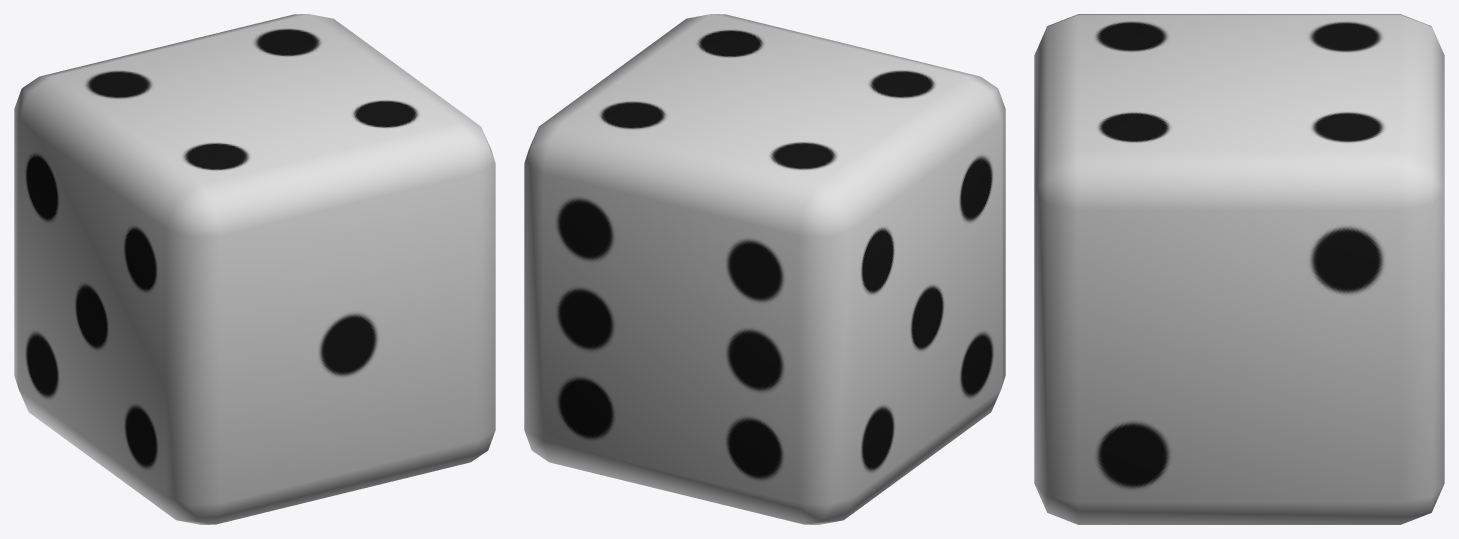
The model's file is dice.obj.
3 views of the same model, side by side, from view 1: azimuth 30°, elevation 25°; view 2: azimuth 150°, elevation 25°; view 3: azimuth 270°, elevation 25° (orthographic). The views are drawn at different scales.
Visible parts, largest first — view 1: default; view 2: default; view 3: default.
Part boxes in pixels (x1,y1,x2,y2): default: (14,14,495,524); default: (524,14,1005,524); default: (1034,14,1444,524).
Size of the model in its own units: 20 by 20 by 20.
